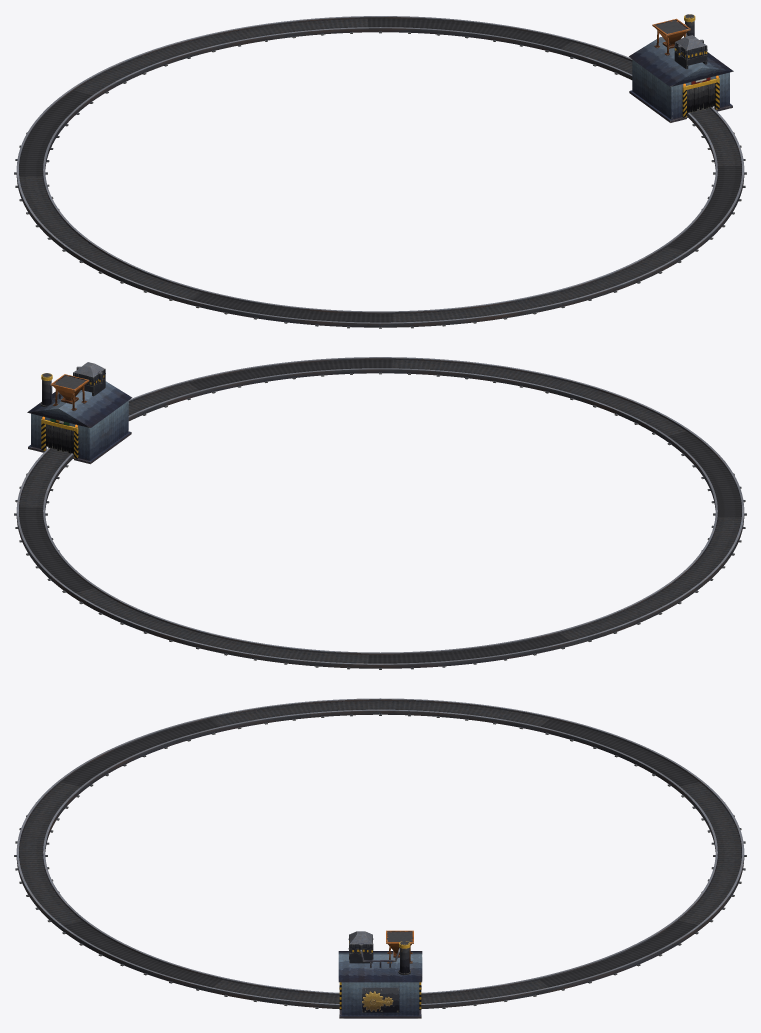
The picture shows the model from 3 angles, top to bottom: view 1: azimuth 30°, elevation 25°; view 2: azimuth 150°, elevation 25°; view 3: azimuth 270°, elevation 25°; orthographic projection.
Visible parts, largest first — view 1: Shed, Roof, Tread_-2_0_0, Tread_-1_1_0, Tread_-2_-1_0, Tread_0_-2_0, BeltRails_0_0_0_110, Tread_0_1_0, Tread_-1_-2_0, BeltRails_-1_-2_0, BeltRails_-1_-1_0_000, Tread_1_-1_0 (+21 smaller); view 2: Shed, Roof, Tread_-2_-1_0, Tread_-1_-2_0, Tread_-2_0_0, Tread_0_1_0, BeltRails_0_-1_0_100, Tread_0_-2_0, Tread_-1_1_0, BeltRails_-1_1_0, BeltRails_-1_0_0_010, Tread_1_0_0 (+21 smaller); view 3: Shed, Roof, Tread_0_-2_0, Tread_0_1_0, Tread_-1_-2_0, Tread_-1_1_0, Tread_-2_-1_0, Tread_-2_0_0, BeltRails_-2_-1_0, BeltRails_-2_0_0, BeltRails_-1_-1_0_000, BeltRails_-1_0_0_010 (+22 smaller).
Boxes of the visible parts, box(x1,y1,x2,y2) form: Shed: box(629, 59, 732, 122); Roof: box(629, 37, 733, 86); Tread_-2_0_0: box(19, 176, 87, 246); Tread_-1_1_0: box(74, 39, 209, 95); Tread_-2_-1_0: box(69, 242, 201, 299); Tread_0_-2_0: box(549, 247, 685, 302); BeltRails_0_0_0_110: box(368, 16, 561, 53); Tread_0_1_0: box(200, 18, 368, 46); Tread_-1_-2_0: box(392, 295, 559, 322); BeltRails_-1_-2_0: box(367, 292, 562, 327); BeltRails_-1_-1_0_000: box(201, 290, 392, 327); Tread_1_-1_0: box(690, 107, 741, 166); Shed: box(28, 400, 131, 464); Roof: box(27, 381, 132, 427); Tread_-2_-1_0: box(673, 517, 741, 588); Tread_-1_-2_0: box(551, 380, 686, 436); Tread_-2_0_0: box(559, 583, 691, 640); Tread_0_1_0: box(76, 588, 211, 643); BeltRails_0_-1_0_100: box(199, 357, 392, 394); Tread_0_-2_0: box(392, 359, 560, 387); Tread_-1_1_0: box(201, 636, 368, 663); BeltRails_-1_1_0: box(198, 633, 393, 668); BeltRails_-1_0_0_010: box(368, 631, 559, 668); Tread_1_0_0: box(19, 448, 71, 507); Shed: box(339, 982, 421, 1018); Roof: box(338, 951, 422, 982); Tread_0_-2_0: box(19, 853, 82, 924); Tread_0_1_0: box(678, 853, 741, 924); Tread_-1_-2_0: box(19, 782, 80, 853); Tread_-1_1_0: box(680, 782, 741, 853); Tread_-2_-1_0: box(211, 701, 380, 726); Tread_-2_0_0: box(380, 701, 549, 726); BeltRails_-2_-1_0: box(188, 698, 380, 724); BeltRails_-2_0_0: box(380, 698, 572, 724); BeltRails_-1_-1_0_000: box(67, 720, 222, 789); BeltRails_-1_0_0_010: box(538, 720, 693, 789).
Size of the model in its own units: 155 by 16 by 151.
62 materials, 62 textured.
